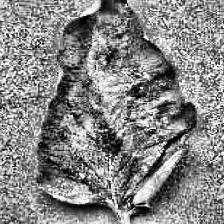spider mites: (36, 0, 196, 209)
